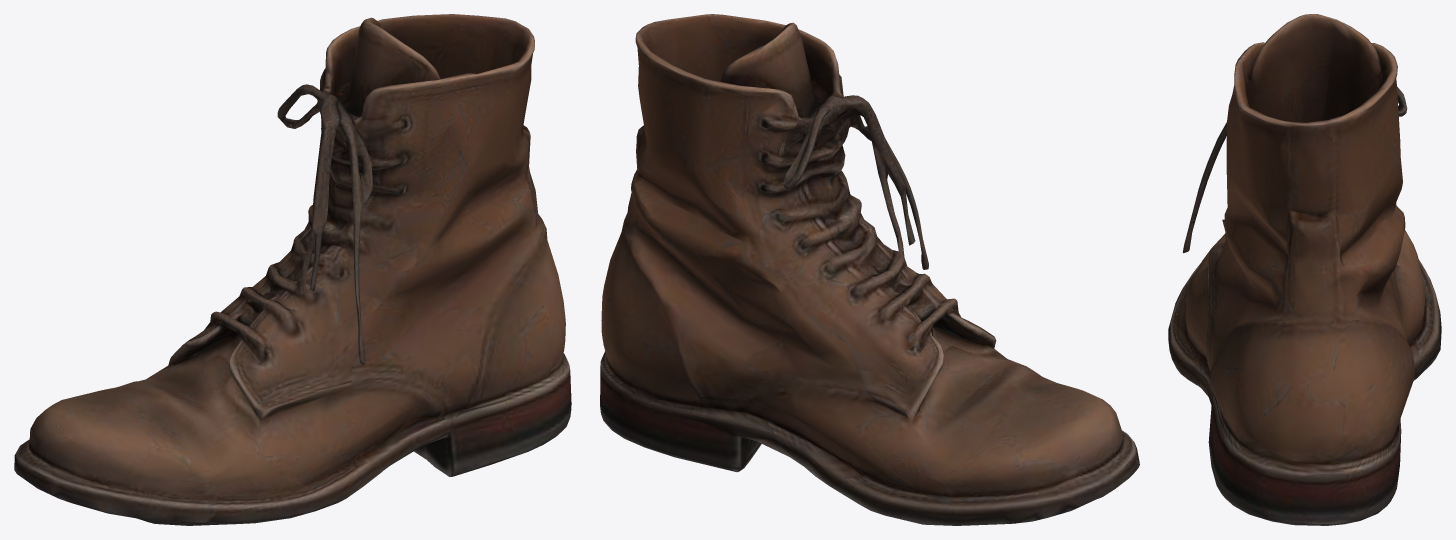
The model's file is boot.glb.
3 views of the same model, side by side, from view 1: azimuth 30°, elevation 25°; view 2: azimuth 150°, elevation 25°; view 3: azimuth 270°, elevation 25° (orthographic). The views are drawn at different scales.
Visible parts, largest first — view 1: Mesh_0; view 2: Mesh_0; view 3: Mesh_0.
Part boxes in pixels (<box>): Mesh_0: <box>14,14,571,525</box>; Mesh_0: <box>600,14,1139,525</box>; Mesh_0: <box>1168,14,1441,525</box>.
Bounding box in the file's own units: 1.9 × 1.46 × 0.8372.
Materials: 1 (1 with a texture image).
